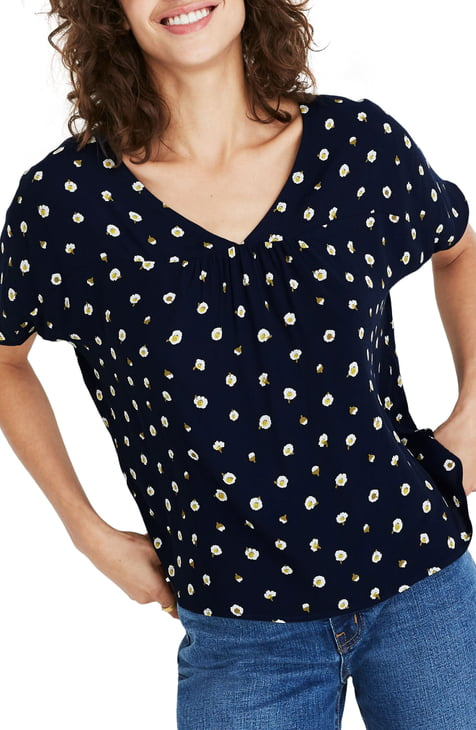C_short blouse: (1, 107, 476, 619)
